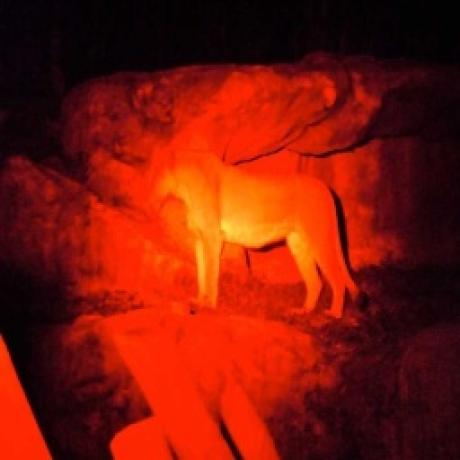Lion: (146, 147, 361, 320)
